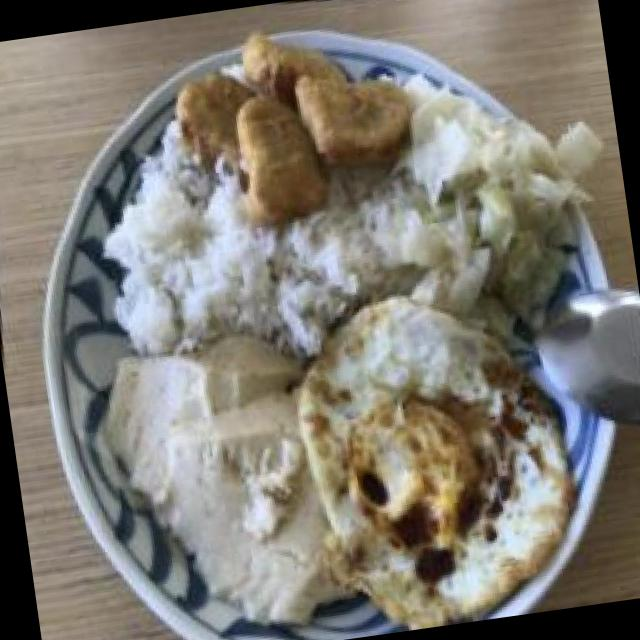chicken_nuggets: (156, 6, 428, 246)
chinese_cabbage: (397, 90, 599, 336)
fried_eggs: (265, 267, 599, 640)
rice: (107, 164, 436, 378)
